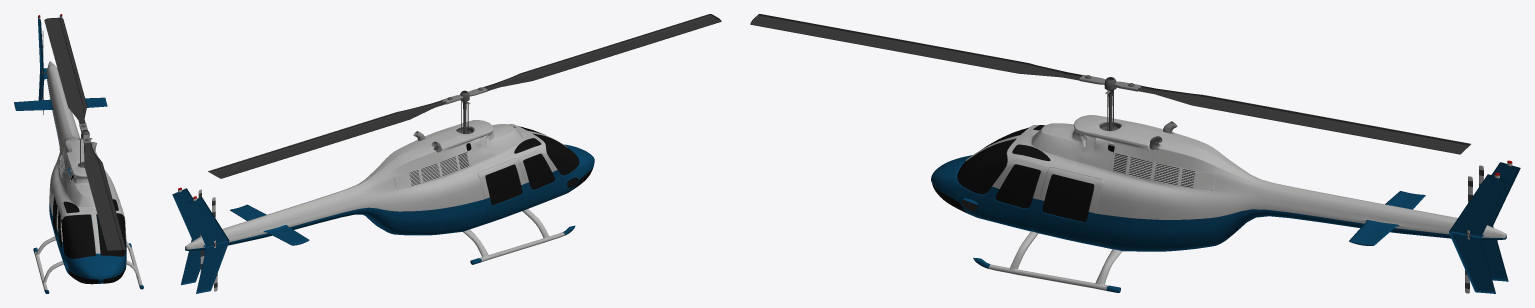
File: mainbody_cube.glb
3 renders of one model, left to right at view 1: azimuth 30°, elevation 25°; view 2: azimuth 150°, elevation 25°; view 3: azimuth 270°, elevation 25°, orthographic. The views are drawn at different scales.
Visible parts, largest first — view 1: mainbody_Cube; view 2: mainbody_Cube; view 3: mainbody_Cube.
Part boxes in pixels (box(x1,y1,x2,y2)): mainbody_Cube: box(14, 14, 143, 293); mainbody_Cube: box(172, 14, 721, 293); mainbody_Cube: box(750, 14, 1520, 293).
Bounding box in the file's own units: 8.78 × 4.96 × 19.05.
